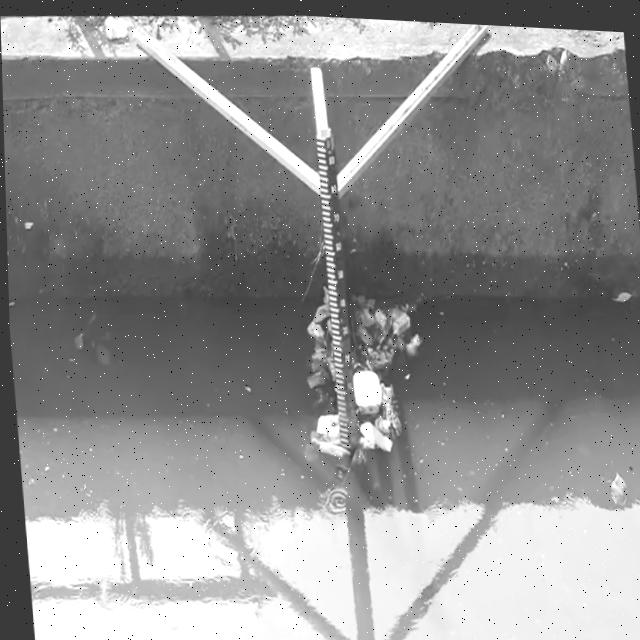water-meter: (310, 128, 366, 467)
